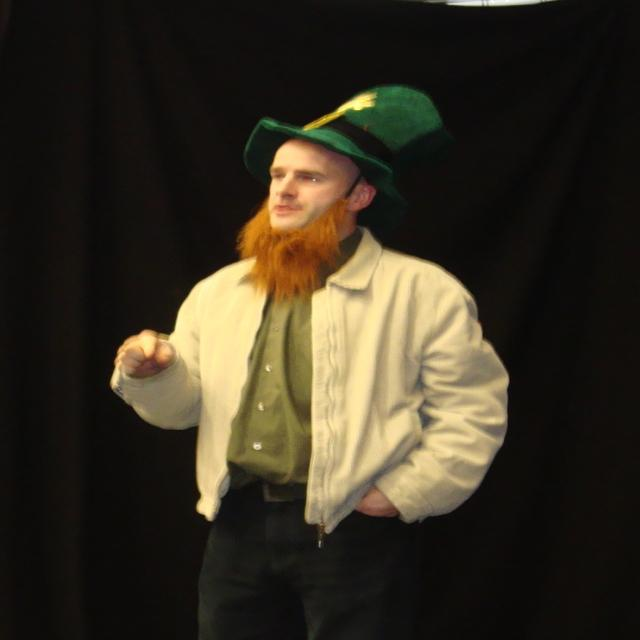Hat: (245, 83, 446, 206)
